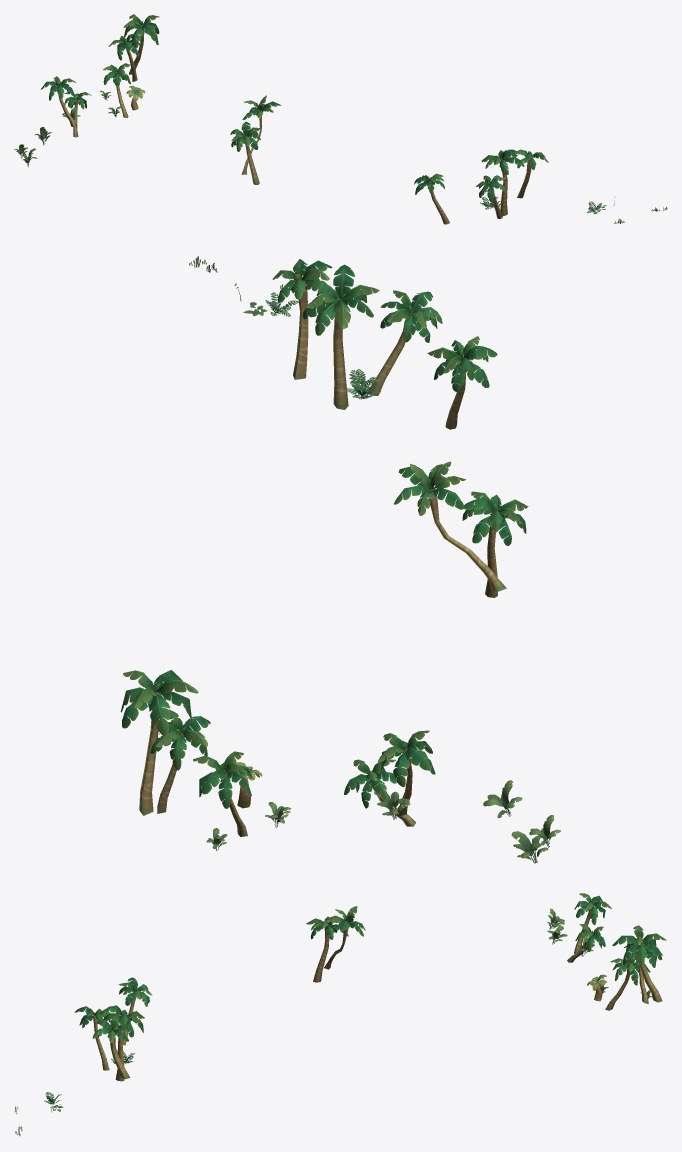
File: pref_sm_beach_bk_pointmol_techyetree_R_lv2.fbx
The picture shows the model from 3 angles, top to bottom: view 1: azimuth 30°, elevation 25°; view 2: azimuth 150°, elevation 25°; view 3: azimuth 270°, elevation 25°; orthographic projection. The views are drawn at different scales.
Parts seen in each view (by area): view 1: pref_sm_beach_bk_pointmol_techyetree_R_lv2; view 2: pref_sm_beach_bk_pointmol_techyetree_R_lv2; view 3: pref_sm_beach_bk_pointmol_techyetree_R_lv2.
Boxes of the visible parts, <box> form: pref_sm_beach_bk_pointmol_techyetree_R_lv2: <box>14,14,667,224</box>; pref_sm_beach_bk_pointmol_techyetree_R_lv2: <box>120,256,560,863</box>; pref_sm_beach_bk_pointmol_techyetree_R_lv2: <box>15,893,666,1135</box>.
Bounding box in the file's own units: 53.6 × 12.21 × 63.35.
